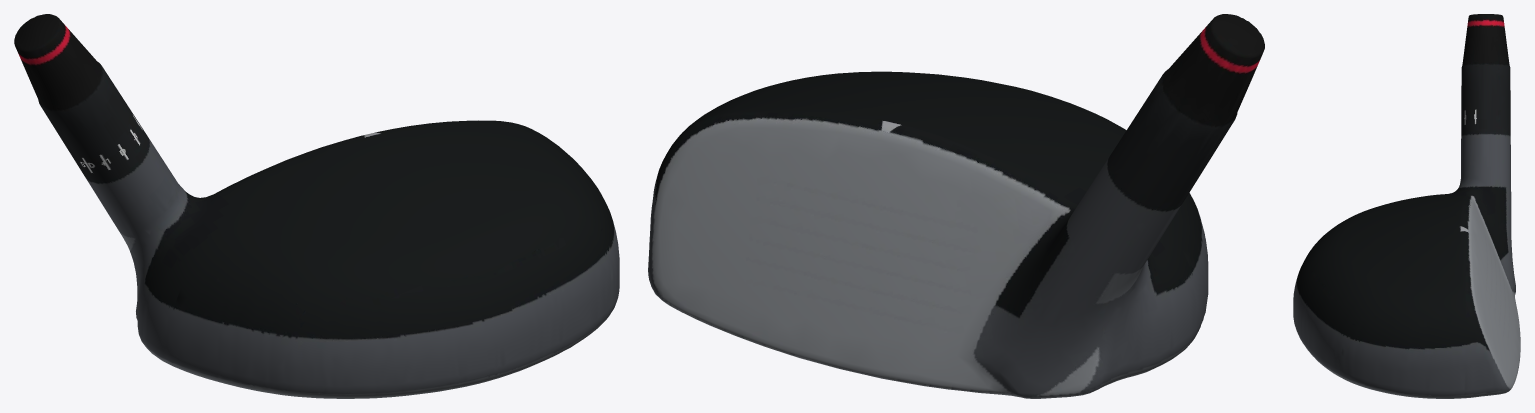
The picture shows the model from 3 angles, left to right: view 1: azimuth 30°, elevation 25°; view 2: azimuth 150°, elevation 25°; view 3: azimuth 270°, elevation 25°; orthographic projection. The views are drawn at different scales.
Visible parts, largest first — view 1: head; view 2: head; view 3: head.
Part boxes in pixels (x1,y1,x2,y2): head: (14,14,619,398); head: (648,14,1264,398); head: (1293,14,1520,398).
Bounding box in the file's own units: 0.1151 × 0.0736 × 0.0635.
1 material, 1 textured.
